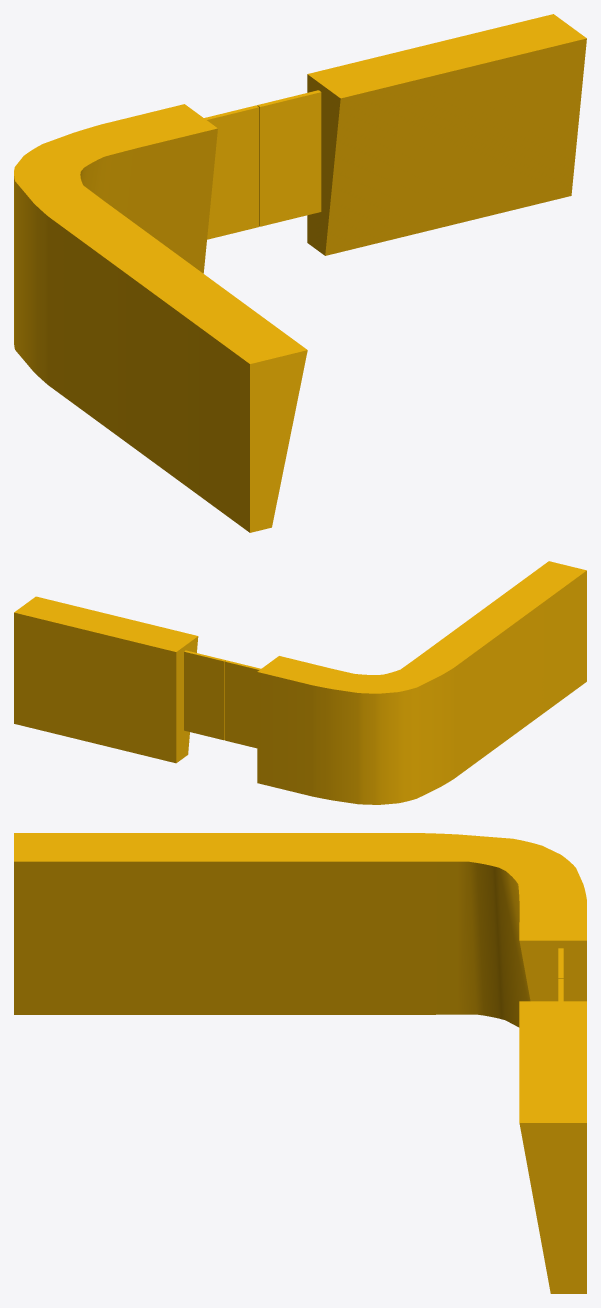
The model's file is VendorCounter.fbx.
3 views of the same model, one above another, from view 1: azimuth 30°, elevation 25°; view 2: azimuth 150°, elevation 25°; view 3: azimuth 270°, elevation 25° (orthographic). The views are drawn at different scales.
Visible parts, largest first — view 1: counter; view 2: counter; view 3: counter.
Part boxes in pixels (x1,y1,x2,y2): counter: (14,14,586,532); counter: (14,561,586,804); counter: (14,833,586,1293).
Size of the model in its own units: 154 by 42.46 by 129.
